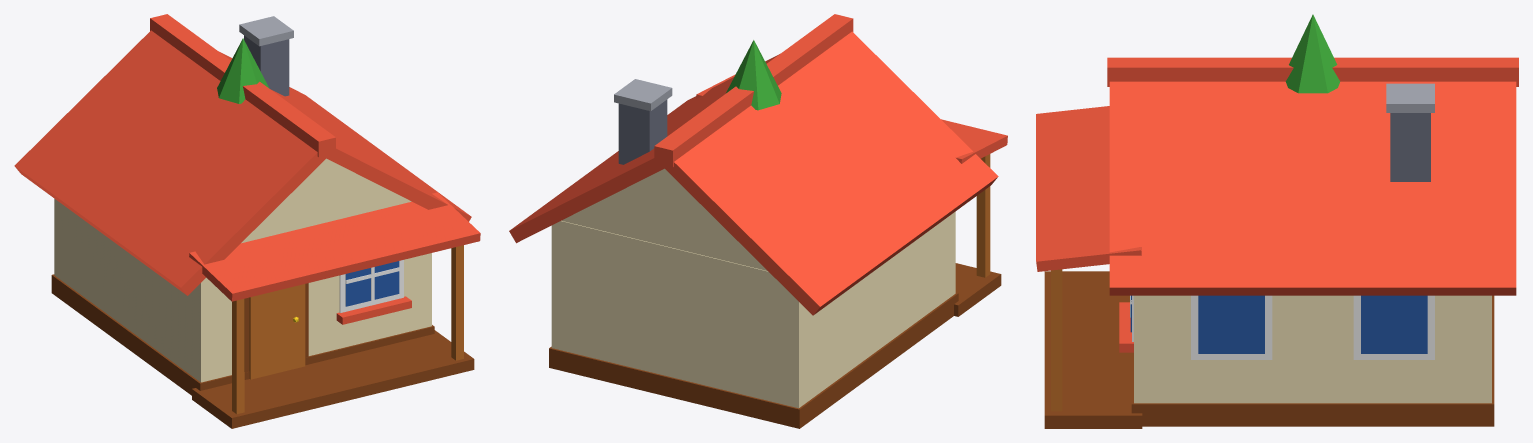
Rendered from models.glb.
The picture shows the model from 3 angles, left to right: view 1: azimuth 30°, elevation 25°; view 2: azimuth 150°, elevation 25°; view 3: azimuth 270°, elevation 25°; orthographic projection. The views are drawn at different scales.
Parts seen in each view (by area): view 1: cabin, pine; view 2: cabin, pine; view 3: cabin, pine.
Part boxes in pixels (x1,y1,x2,y2): cabin: [14, 14, 480, 428]; pine: [217, 38, 268, 103]; cabin: [509, 14, 1007, 428]; pine: [726, 40, 781, 110]; cabin: [1036, 57, 1518, 428]; pine: [1285, 14, 1340, 93].
Bounding box in the file's own units: 5.04 × 4.68 × 5.93.
